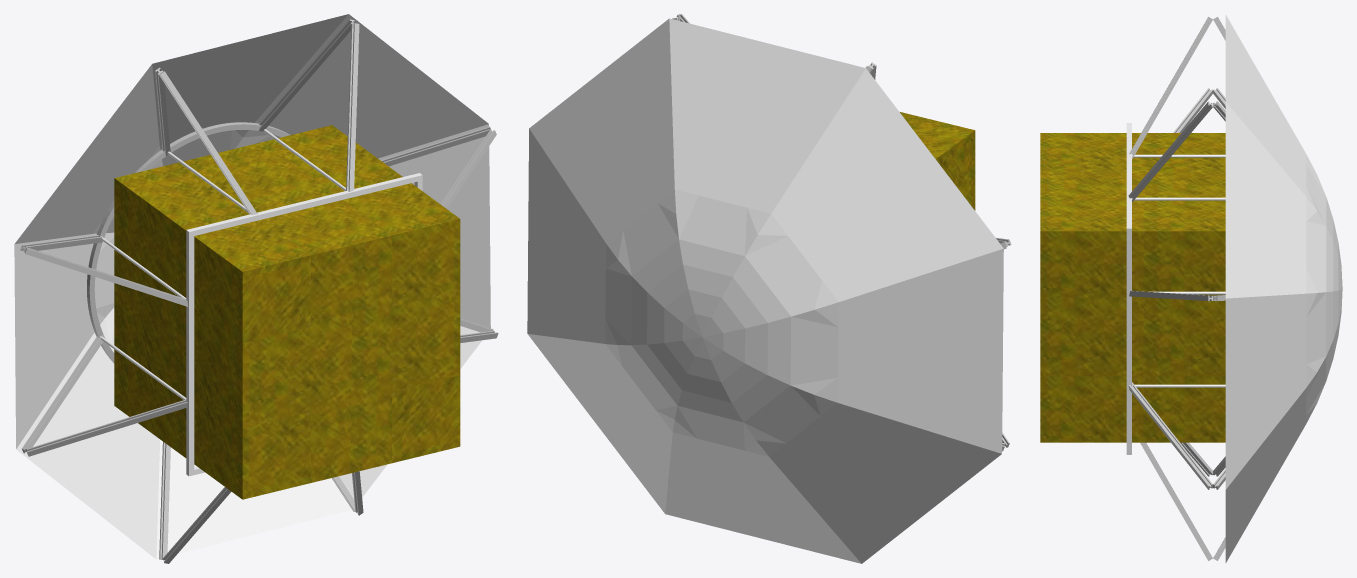
Rendered from 27U_BFS_full+Struct.dae.
3 renders of one model, left to right at view 1: azimuth 30°, elevation 25°; view 2: azimuth 150°, elevation 25°; view 3: azimuth 270°, elevation 25°, orthographic. The views are drawn at different scales.
Parts seen in each view (by area): view 1: Component49 (×2), Component8_3 (×4), Component14 (×2), Component1_4, SketchUp; view 2: Component49 (×3), Component8_3; view 3: Component49 (×3), Component8_3 (×3), Component14 (×2), Component1_4, SketchUp.
Boxes of the visible parts, x1,y1,x2,y2 form: Component49 (×2): [14, 14, 490, 559]; Component8_3 (×4): [114, 125, 460, 499]; Component14 (×2): [114, 141, 460, 482]; Component1_4: [20, 19, 498, 563]; SketchUp: [186, 173, 422, 476]; Component49 (×3): [527, 18, 1003, 563]; Component8_3: [903, 113, 975, 204]; Component49 (×3): [1225, 15, 1342, 562]; Component8_3 (×3): [1040, 133, 1225, 442]; Component14 (×2): [1040, 164, 1225, 376]; Component1_4: [1128, 17, 1225, 560]; SketchUp: [1126, 123, 1131, 454].
Size of the model in its own units: 37.23 by 22.05 by 37.23.
4 materials, 1 textured.
